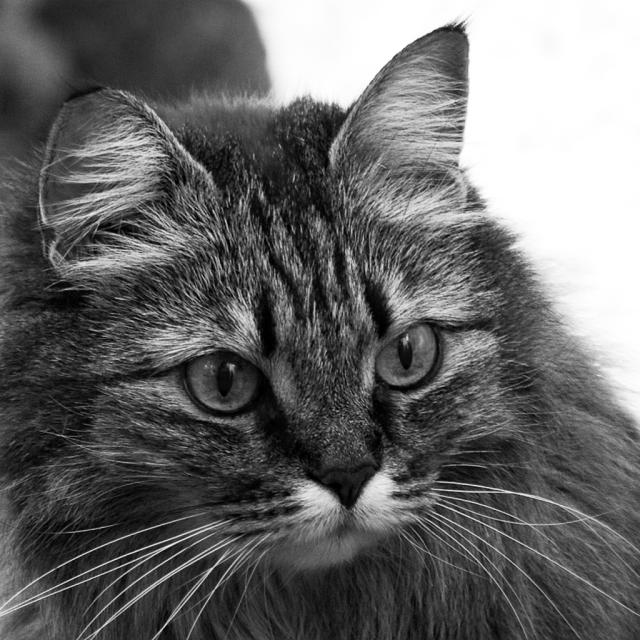Cat: (0, 3, 639, 639)
